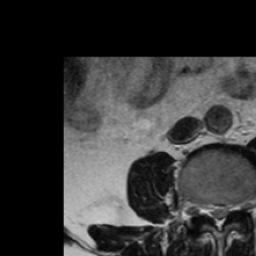CCS_normal: (214, 195, 223, 237)
LFS_stenosis: (233, 192, 242, 218)
LLS_stenosis: (223, 196, 233, 225)
RFS_normal: (195, 192, 204, 223)
RLS_normal: (204, 193, 214, 225)
